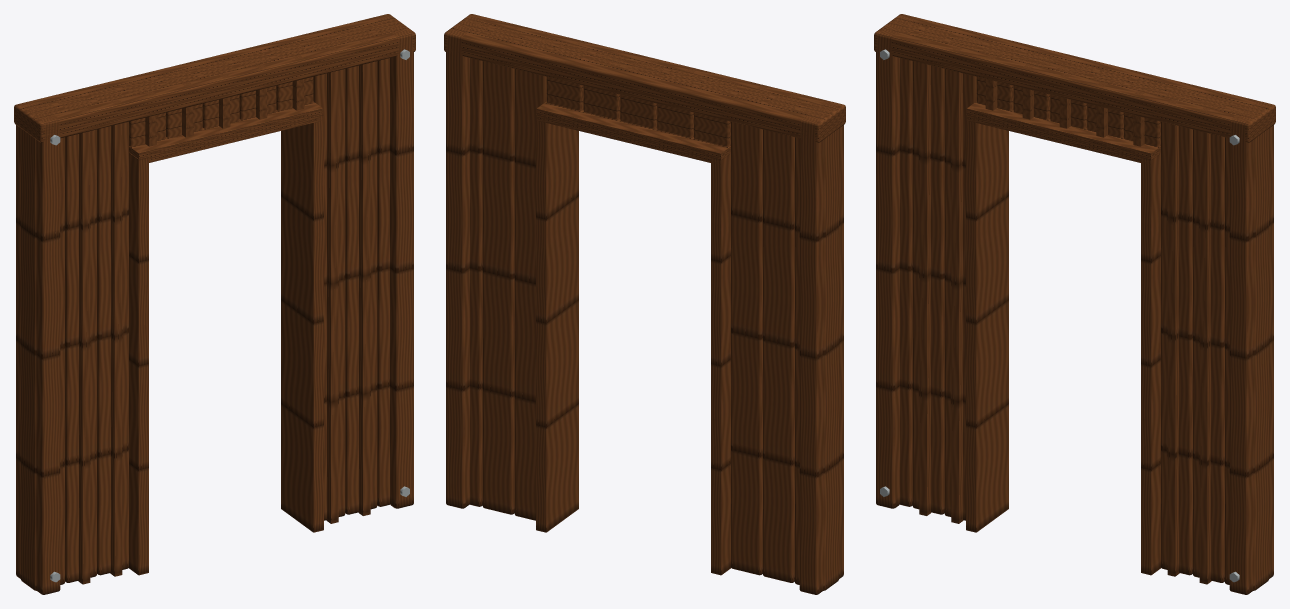
File: rural-scavenging-settlements-cottage-entry-wall-18333a1e__26445.glb
The picture shows the model from 3 angles, left to right: view 1: azimuth 30°, elevation 25°; view 2: azimuth 150°, elevation 25°; view 3: azimuth 330°, elevation 25°; orthographic projection.
Parts seen in each view (by area): view 1: cottage-entry-wall; view 2: cottage-entry-wall; view 3: cottage-entry-wall.
Boxes of the visible parts, x1,y1,x2,y2 form: cottage-entry-wall: [14, 14, 415, 594]; cottage-entry-wall: [444, 14, 845, 594]; cottage-entry-wall: [874, 14, 1275, 594].
Bounding box in the file's own units: 2 × 2.4 × 0.3.
Materials: 2 (1 with a texture image).
